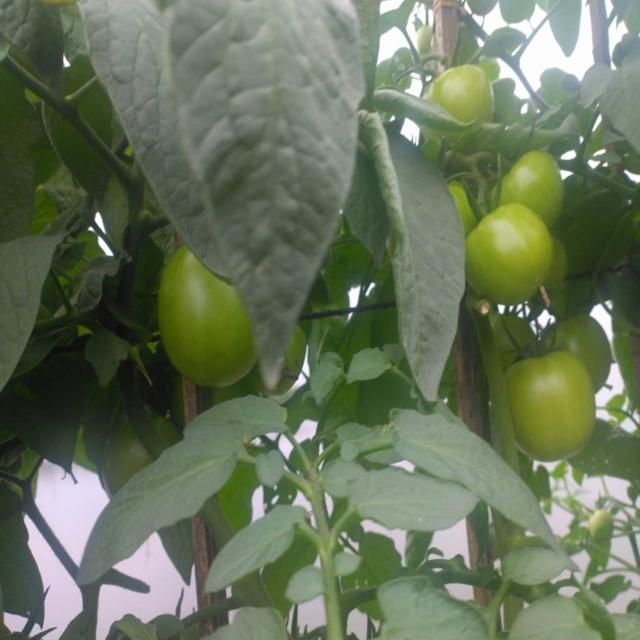tomato: (159, 246, 254, 387), (506, 356, 596, 456), (467, 202, 544, 309), (541, 316, 614, 395), (105, 413, 176, 487), (493, 150, 565, 221), (431, 63, 499, 129), (442, 178, 484, 232), (492, 310, 534, 364), (586, 507, 616, 546), (416, 23, 435, 48)
